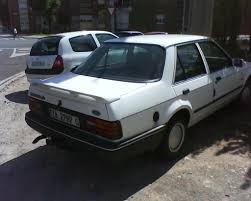car: (28, 33, 251, 154), (22, 31, 120, 88)
